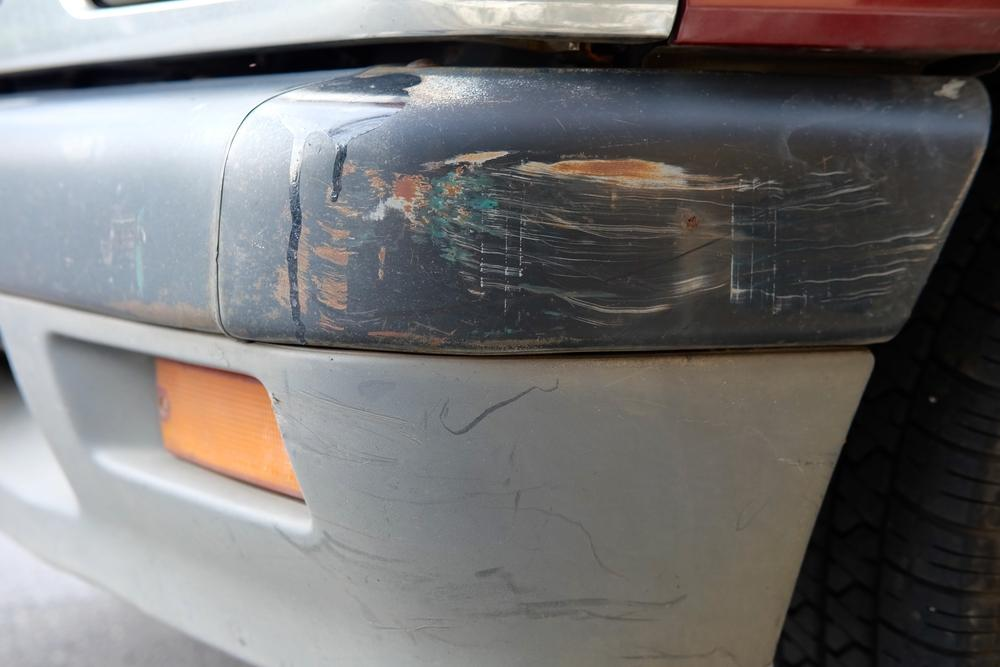scratch: (296, 370, 759, 667), (379, 138, 935, 323)
